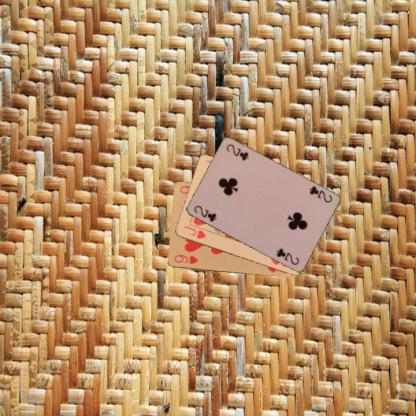2c: (306, 183, 334, 204), (191, 203, 217, 223)
9h: (172, 252, 198, 266)
Jh: (181, 222, 207, 240)
